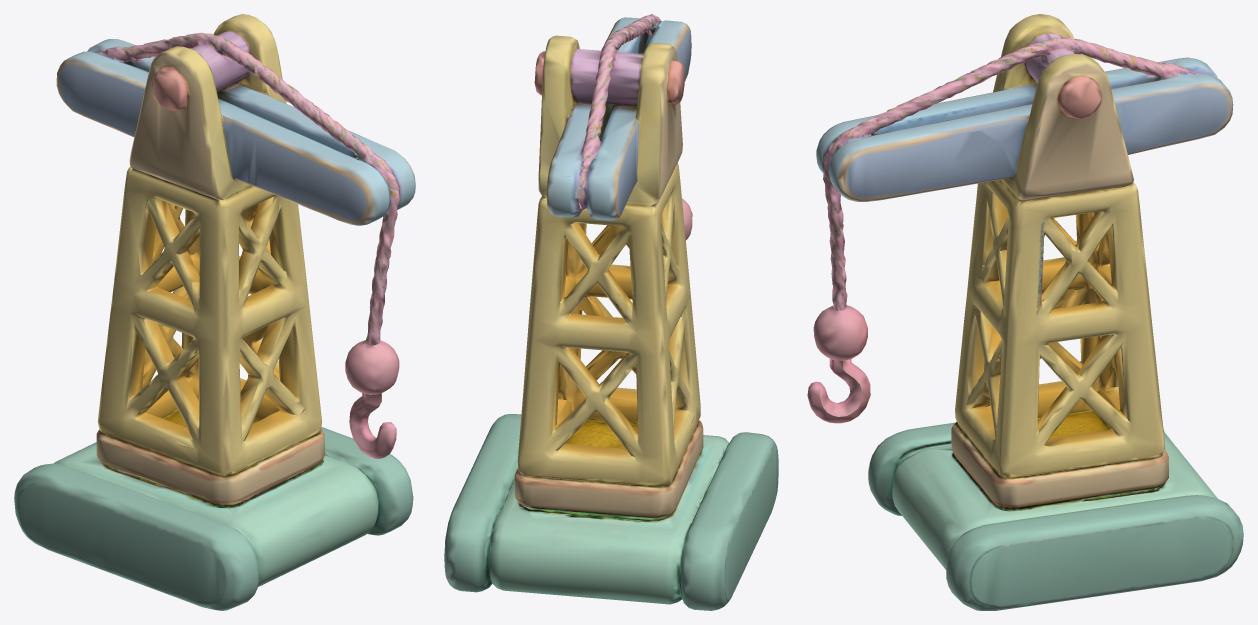
3 renders of one model, left to right at view 1: azimuth 30°, elevation 25°; view 2: azimuth 150°, elevation 25°; view 3: azimuth 270°, elevation 25°, orthographic.
Parts seen in each view (by area): view 1: repaired; view 2: repaired; view 3: repaired.
Boxes of the visible parts, left/top/right/bottom form: repaired: left=14, top=14, right=415, bottom=610; repaired: left=444, top=14, right=778, bottom=610; repaired: left=807, top=14, right=1243, bottom=610.
Bounding box in the file's own units: 0.6446 × 0.9996 × 0.7816.
Materials: 1 (1 with a texture image).
